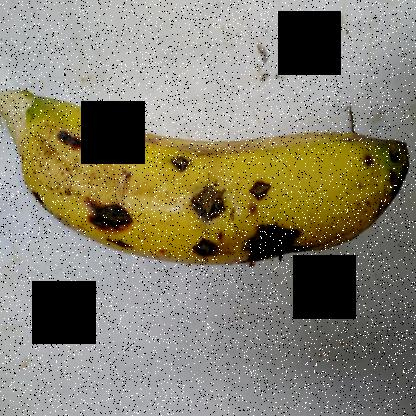ripe: (1, 55, 414, 277)
rotten: (77, 181, 141, 245), (258, 217, 314, 269), (195, 178, 235, 238), (181, 228, 224, 278), (52, 108, 91, 160), (163, 142, 205, 180), (248, 170, 278, 207)
